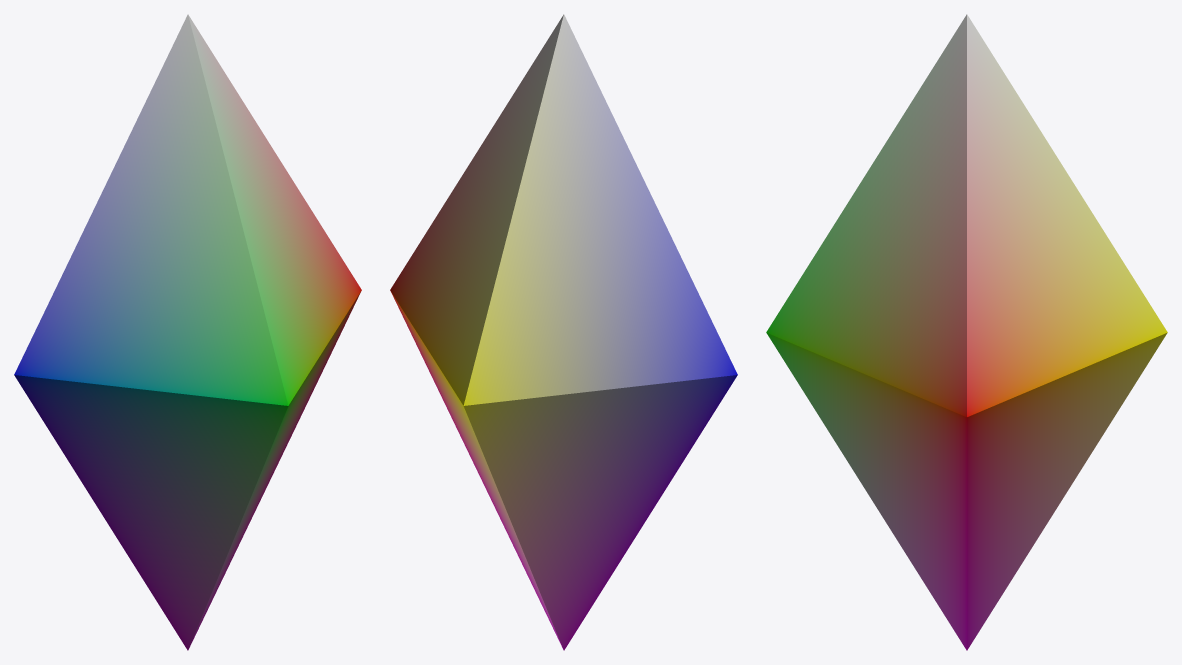
The picture shows the model from 3 angles, left to right: view 1: azimuth 30°, elevation 25°; view 2: azimuth 150°, elevation 25°; view 3: azimuth 270°, elevation 25°; orthographic projection.
Visible parts, largest first — view 1: test_mesh; view 2: test_mesh; view 3: test_mesh.
Part boxes in pixels (x1,y1,x2,y2): test_mesh: (14,14,361,650); test_mesh: (390,14,737,650); test_mesh: (766,14,1167,650).
Bounding box in the file's own units: 1.6 × 2.8 × 1.6.
